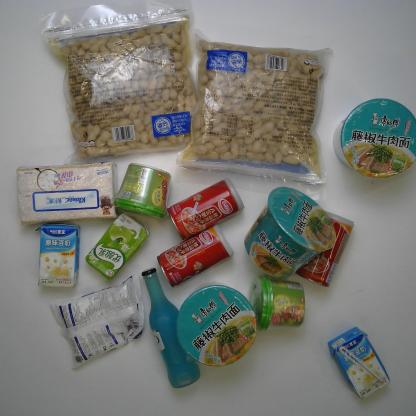Alcohol: (131, 262, 208, 391)
Canned Food: (151, 222, 237, 290), (292, 208, 359, 291), (168, 175, 250, 240)
Dried Food: (39, 0, 210, 170), (175, 23, 334, 190)
Instant Drink: (109, 150, 177, 222), (246, 267, 310, 336)
Instant Noodles: (240, 182, 341, 281), (169, 278, 272, 370), (330, 94, 415, 184)
Milk: (82, 202, 154, 287), (324, 319, 393, 402), (26, 216, 84, 295)
Seasoner: (47, 268, 149, 373)
Tissue: (11, 158, 118, 230)
